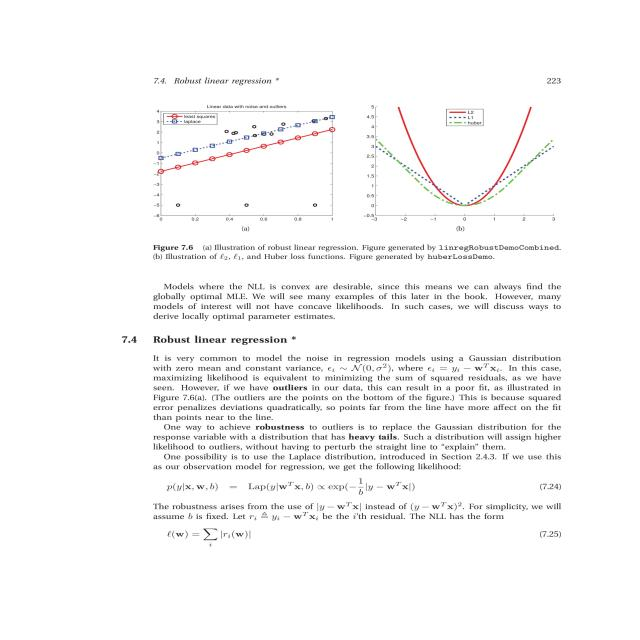diagram: (113, 73, 608, 272)
